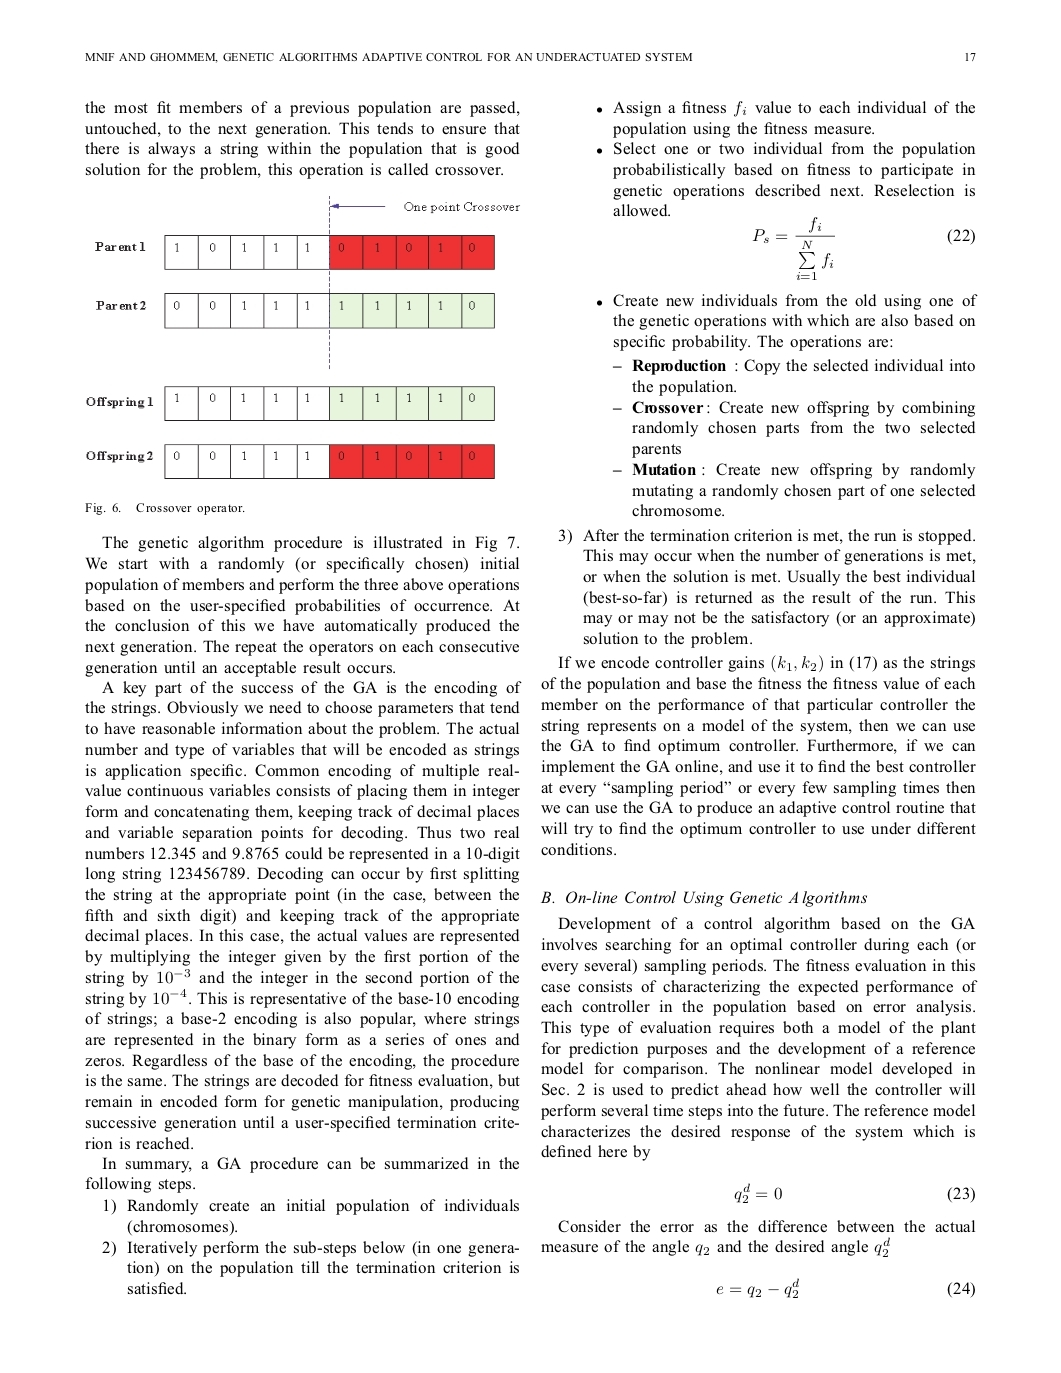figure: (86, 196, 519, 478)
formula: (752, 217, 974, 279), (716, 1277, 974, 1298), (734, 1182, 974, 1202)
